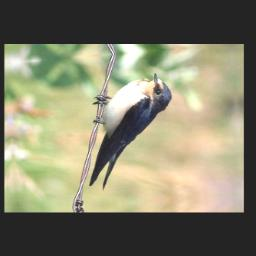Swallow: (75, 70, 181, 192)
